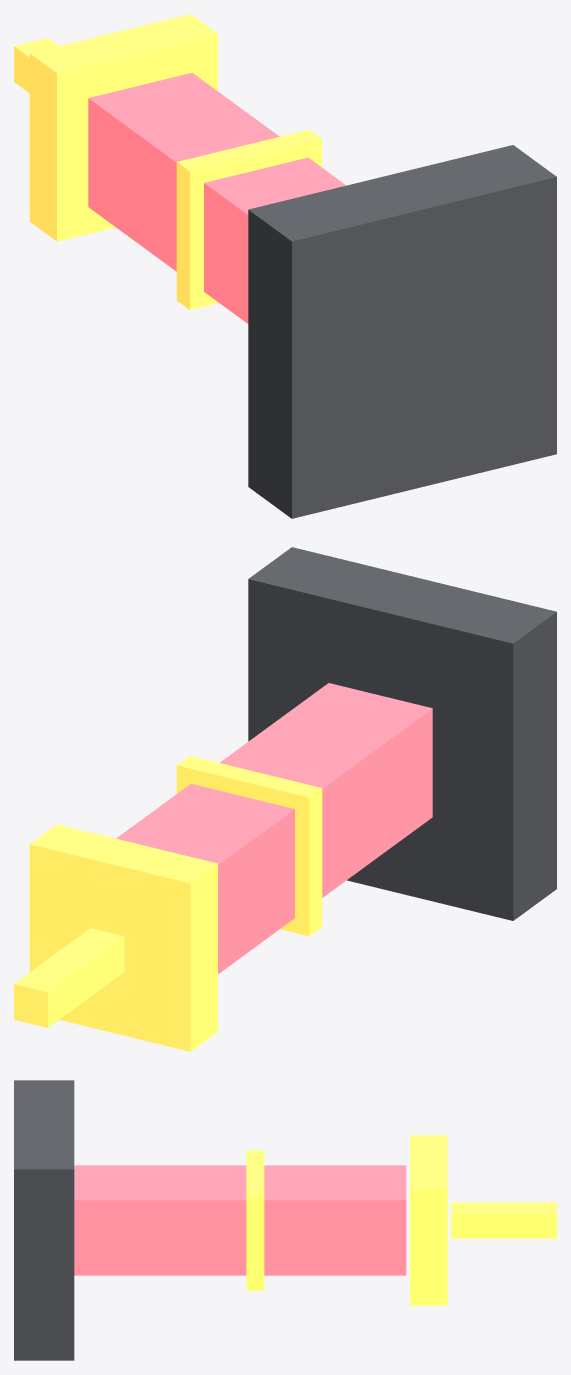
The model's file is interact_hazard_pylon.glb.
3 renders of one model, top to bottom at view 1: azimuth 30°, elevation 25°; view 2: azimuth 150°, elevation 25°; view 3: azimuth 270°, elevation 25°, orthographic. The views are drawn at different scales.
Parts seen in each view (by area): view 1: interact_hazard_pylon; view 2: interact_hazard_pylon; view 3: interact_hazard_pylon.
Boxes of the visible parts, x1,y1,x2,y2 form: interact_hazard_pylon: (14, 14, 556, 518); interact_hazard_pylon: (14, 547, 556, 1051); interact_hazard_pylon: (14, 1080, 556, 1360).
Bounding box in the file's own units: 1.4 × 1.4 × 3.6.
